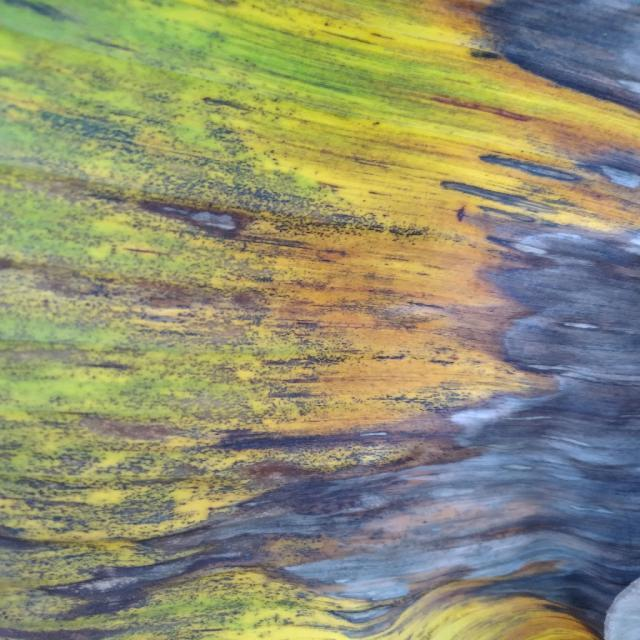Early_rust: (0, 0, 604, 640)
